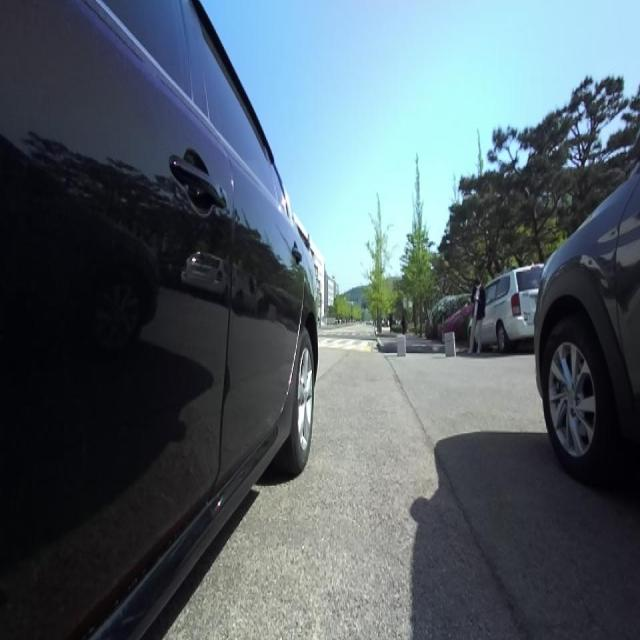sidewalk: (405, 332, 442, 344), (379, 330, 397, 343)
